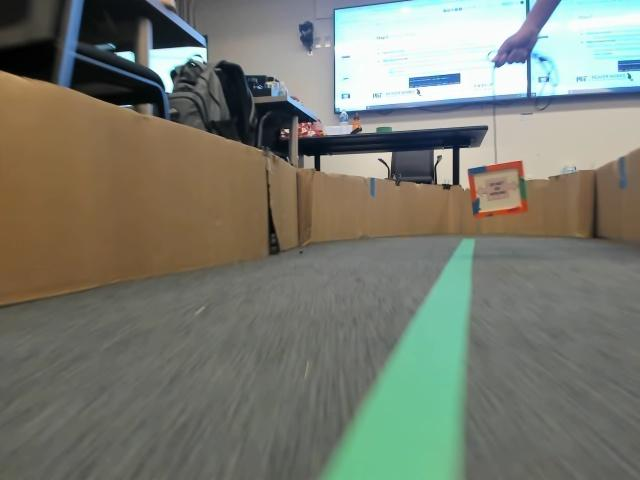Do Not Go Around: (475, 180, 515, 201)
